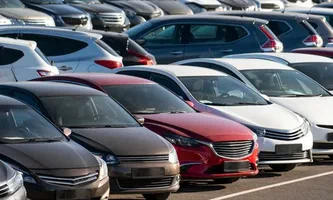Car: (33, 73, 259, 184), (0, 81, 180, 200), (116, 65, 313, 171), (172, 58, 333, 154), (0, 95, 110, 199), (125, 15, 284, 64), (0, 26, 124, 72), (200, 11, 324, 52), (224, 52, 333, 94), (82, 29, 157, 66), (0, 37, 60, 83), (20, 0, 93, 29), (64, 0, 130, 32), (100, 0, 164, 27), (0, 0, 56, 26), (294, 13, 333, 46), (0, 160, 30, 200), (284, 7, 333, 27), (147, 0, 194, 15), (178, 0, 226, 14), (291, 47, 333, 59), (217, 0, 258, 12), (252, 0, 284, 12), (282, 0, 313, 12), (0, 14, 12, 26), (314, 2, 333, 9), (312, 0, 333, 5), (325, 42, 333, 48)
